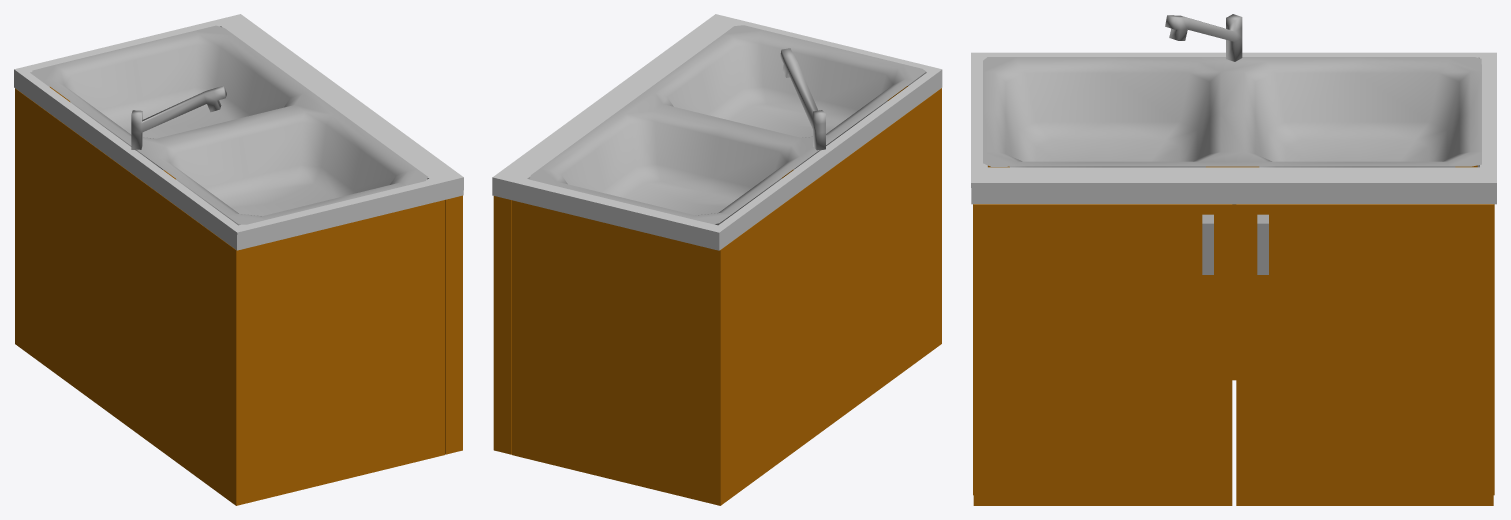
File: Kitchen_sink.dae
The picture shows the model from 3 angles, left to right: view 1: azimuth 30°, elevation 25°; view 2: azimuth 150°, elevation 25°; view 3: azimuth 270°, elevation 25°; orthographic projection. The views are drawn at different scales.
Parts seen in each view (by area): view 1: Cube_002_Cube_002_Wood_Cherry; view 2: Cube_002_Cube_002_Wood_Cherry; view 3: Cube_002_Cube_002_Wood_Cherry.
Boxes of the visible parts, <box> form: Cube_002_Cube_002_Wood_Cherry: <box>14,14,463,505</box>; Cube_002_Cube_002_Wood_Cherry: <box>492,14,942,505</box>; Cube_002_Cube_002_Wood_Cherry: <box>971,14,1496,505</box>.
Bounding box in the file's own units: 0.6975 × 1.11 × 0.9319.
